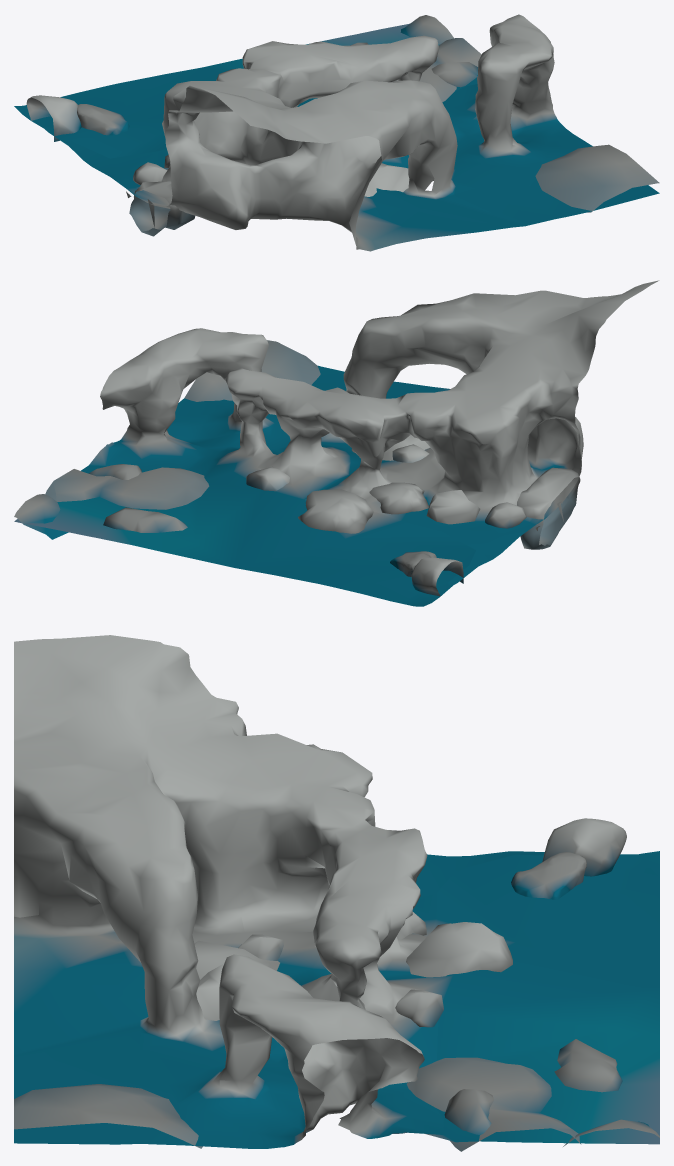
3 renders of one model, top to bottom at view 1: azimuth 30°, elevation 25°; view 2: azimuth 150°, elevation 25°; view 3: azimuth 270°, elevation 25°, orthographic. The views are drawn at different scales.
Visible parts, largest first — view 1: G:\FFXIV-MapTools\exports\s1f3\bg\ffxiv\sea_s1\fld\s1f3\bgpl (×16); view 2: G:\FFXIV-MapTools\exports\s1f3\bg\ffxiv\sea_s1\fld\s1f3\bgpl (×17); view 3: G:\FFXIV-MapTools\exports\s1f3\bg\ffxiv\sea_s1\fld\s1f3\bgpl (×17).
Part boxes in pixels (x1,y1,x2,y2): G:\FFXIV-MapTools\exports\s1f3\bg\ffxiv\sea_s1\fld\s1f3\bgpl (×16): [22, 14, 659, 251]; G:\FFXIV-MapTools\exports\s1f3\bg\ffxiv\sea_s1\fld\s1f3\bgpl (×17): [14, 280, 659, 606]; G:\FFXIV-MapTools\exports\s1f3\bg\ffxiv\sea_s1\fld\s1f3\bgpl (×17): [14, 635, 659, 1151].
Size of the model in its own units: 128 by 58.88 by 128.
